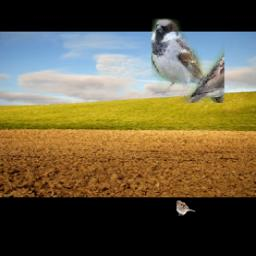Sparrow: (150, 19, 223, 104), (176, 201, 196, 217)
